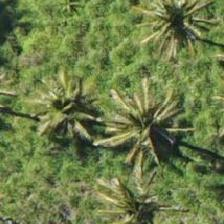coconut_tree: (12, 60, 102, 150), (95, 79, 185, 169), (139, 0, 223, 61), (83, 167, 173, 223)
